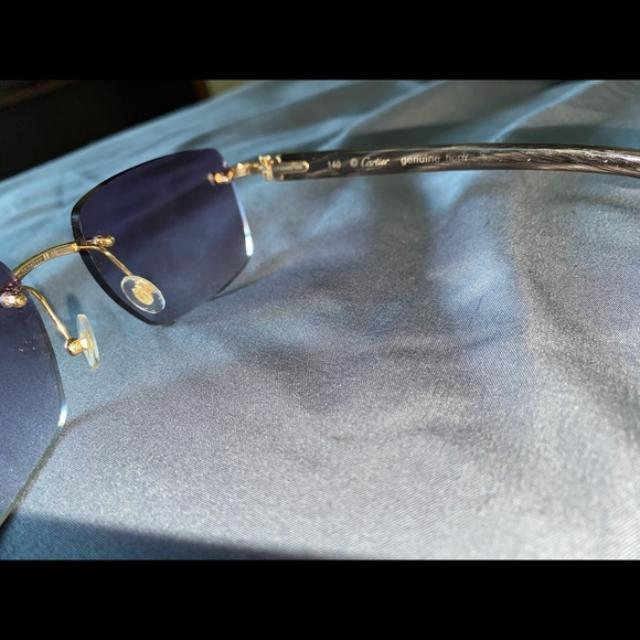sunglasses: (0, 118, 640, 534)
